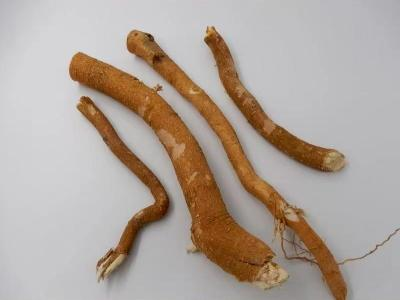Root: (126, 30, 346, 299), (70, 53, 288, 289), (204, 26, 344, 171), (77, 96, 168, 280)
